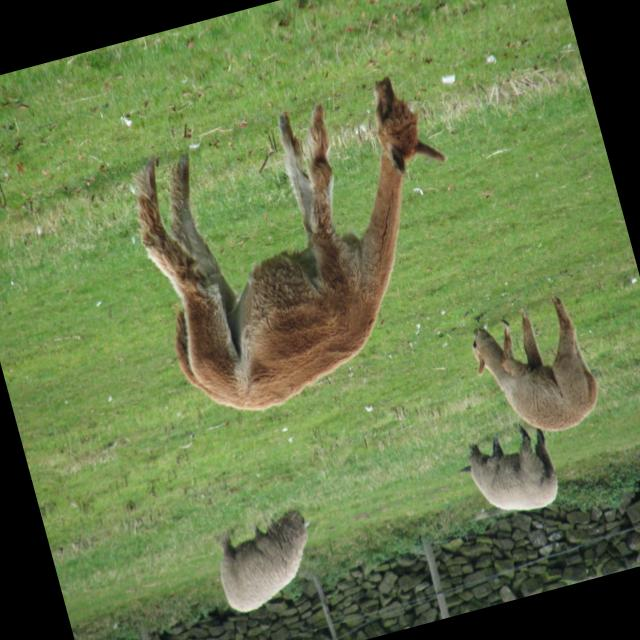alpaca: (118, 70, 496, 429), (464, 294, 604, 445), (206, 504, 324, 616), (453, 424, 563, 526)
